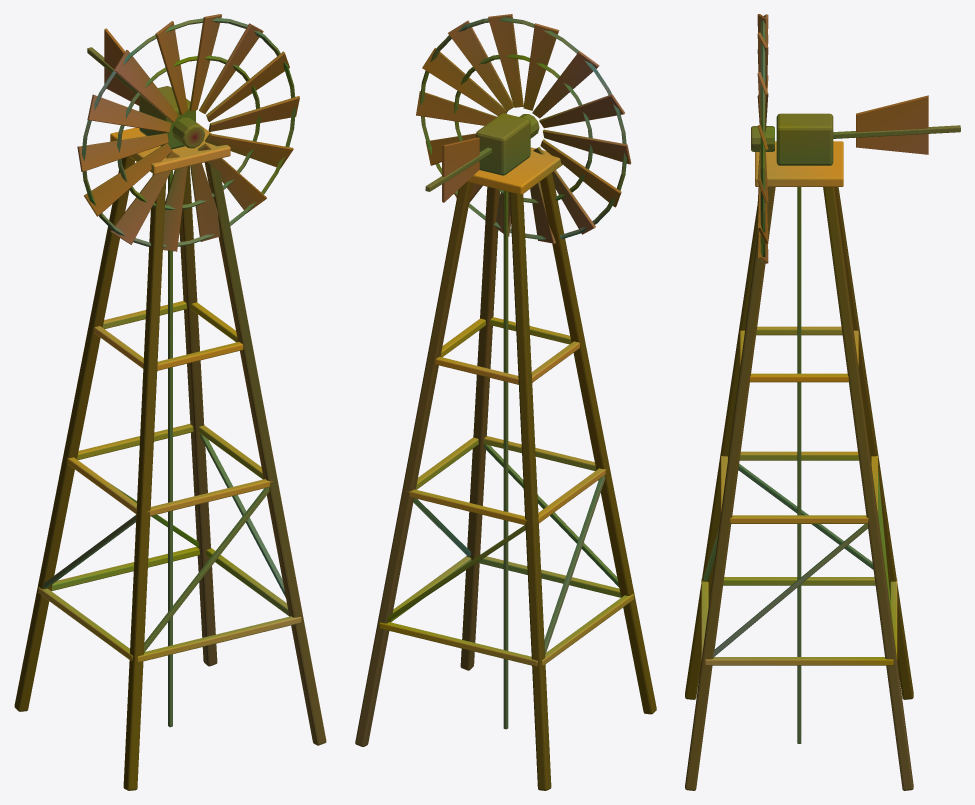
Rendered from Windmill_01.fbx.
3 renders of one model, left to right at view 1: azimuth 30°, elevation 25°; view 2: azimuth 150°, elevation 25°; view 3: azimuth 270°, elevation 25°, orthographic. The views are drawn at different scales.
Visible parts, largest first — view 1: Tower, Rotor; view 2: Tower, Rotor; view 3: Tower, Rotor.
Part boxes in pixels (<box>): Tower: <box>14,28,326,790</box>; Rotor: <box>77,14,299,251</box>; Tower: <box>355,113,656,790</box>; Rotor: <box>416,14,631,243</box>; Tower: <box>685,95,960,790</box>; Rotor: <box>751,14,774,263</box>.
Bounding box in the file's own units: 3.1 × 9.82 × 3.42.
